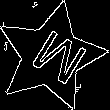M_SW: (17, 23, 85, 90)
